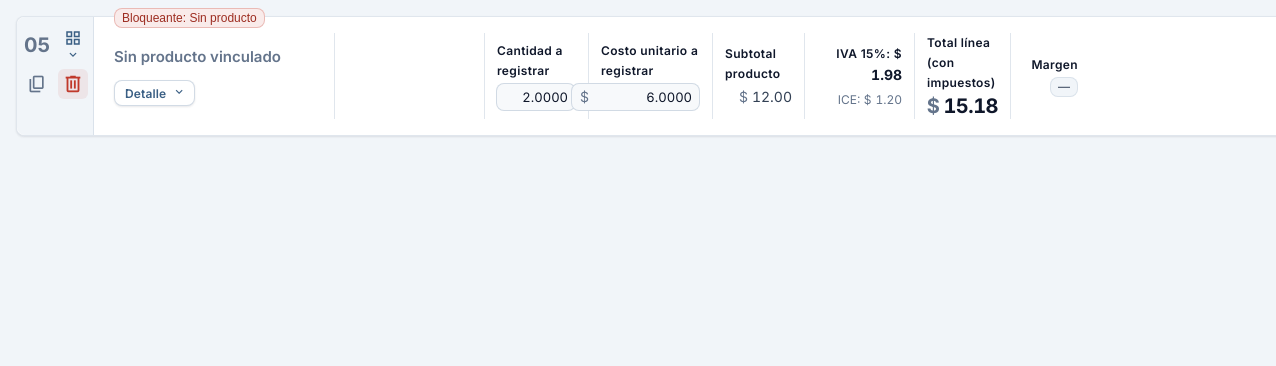
Scenario: PurchaseLineCard — layout compacto › sin producto vinculado: etiqueta bloqueante y Detalle en la cabecera
Click the button "Detalle".
click(154, 93)  # box [114, 80, 195, 106]
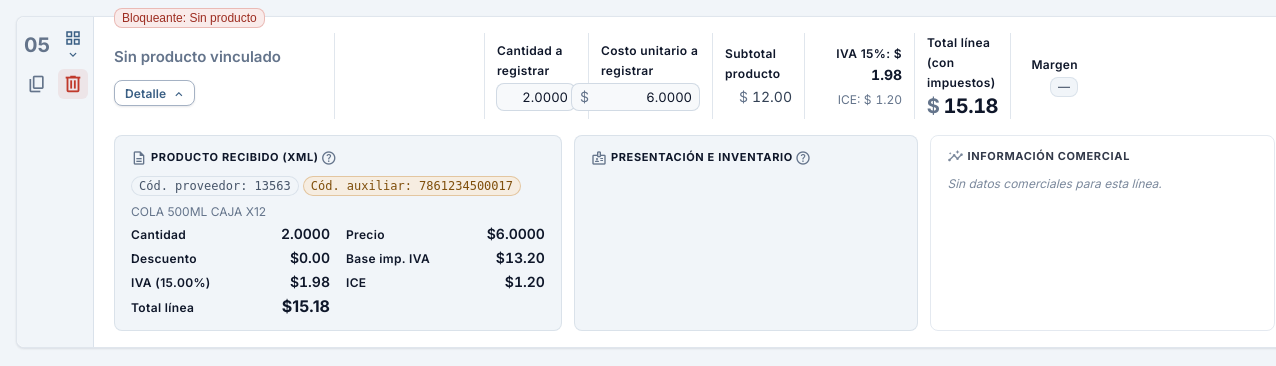
Expected: the text "Sin producto vinculado" is shown, [114, 47, 281, 66]
Result: the text "Cód. proveedor: 13563" is shown at [131, 176, 299, 196]
